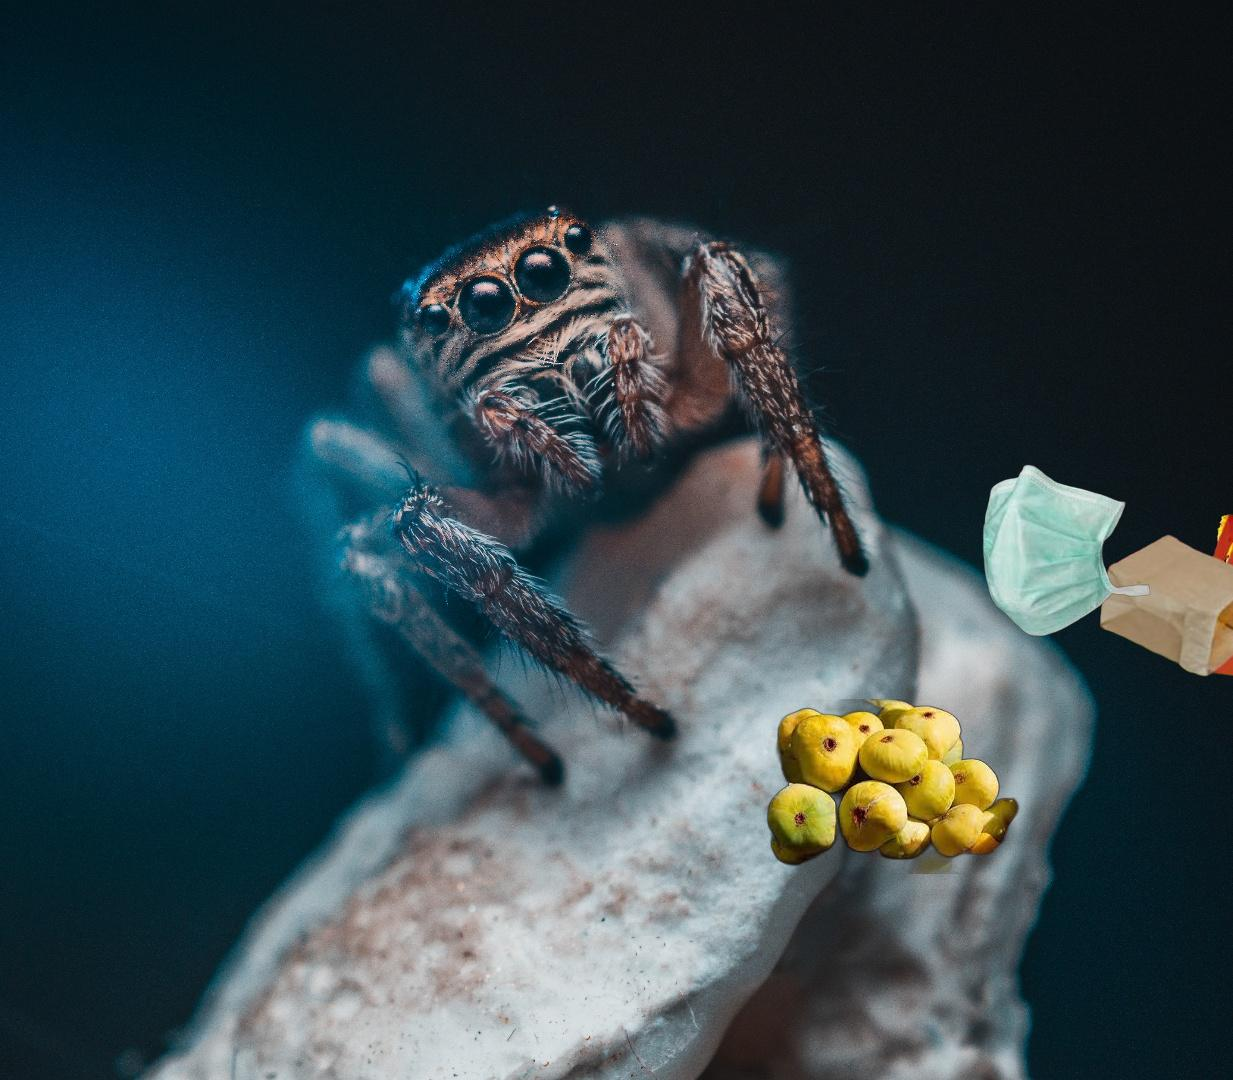biological: (737, 699, 1025, 874)
paper-bag: (1097, 487, 1233, 710)
trash: (982, 462, 1153, 639)
